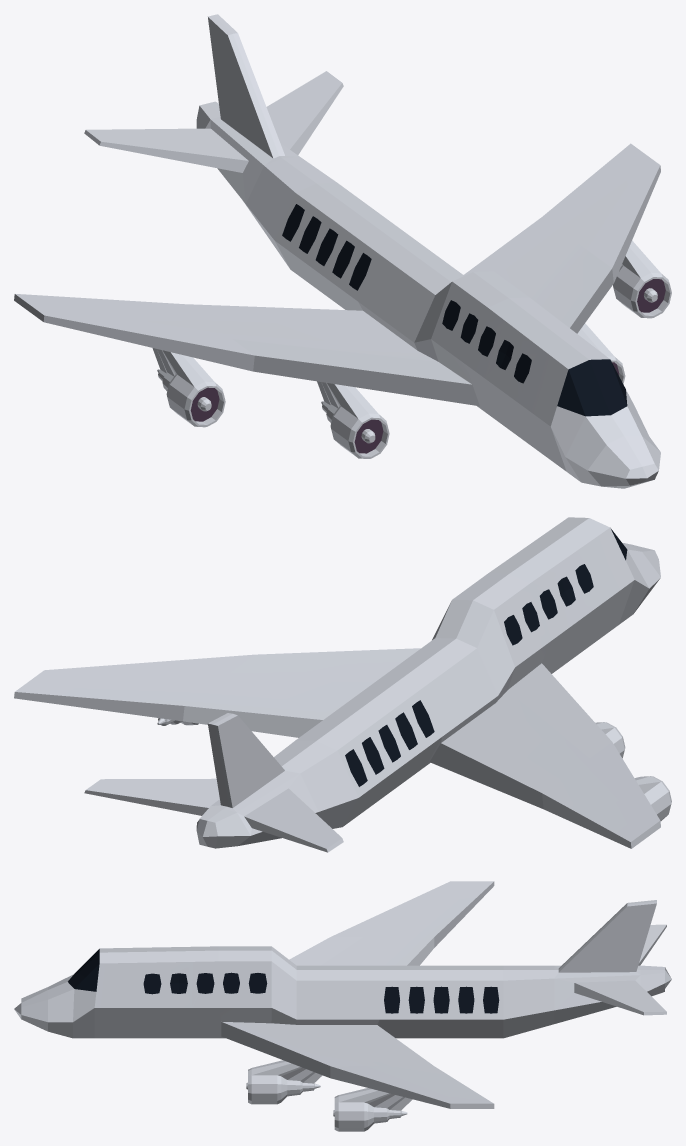
File: airplane.fbx
3 views of the same model, one above another, from view 1: azimuth 30°, elevation 25°; view 2: azimuth 150°, elevation 25°; view 3: azimuth 270°, elevation 25° (orthographic). The views are drawn at different scales.
Parts seen in each view (by area): view 1: airplane; view 2: airplane; view 3: airplane.
Part boxes in pixels (box(x1,y1,x2,y2)): airplane: box(14, 14, 671, 488); airplane: box(14, 517, 671, 852); airplane: box(14, 881, 671, 1131).
Size of the model in its own units: 18.17 by 6.03 by 22.65.
